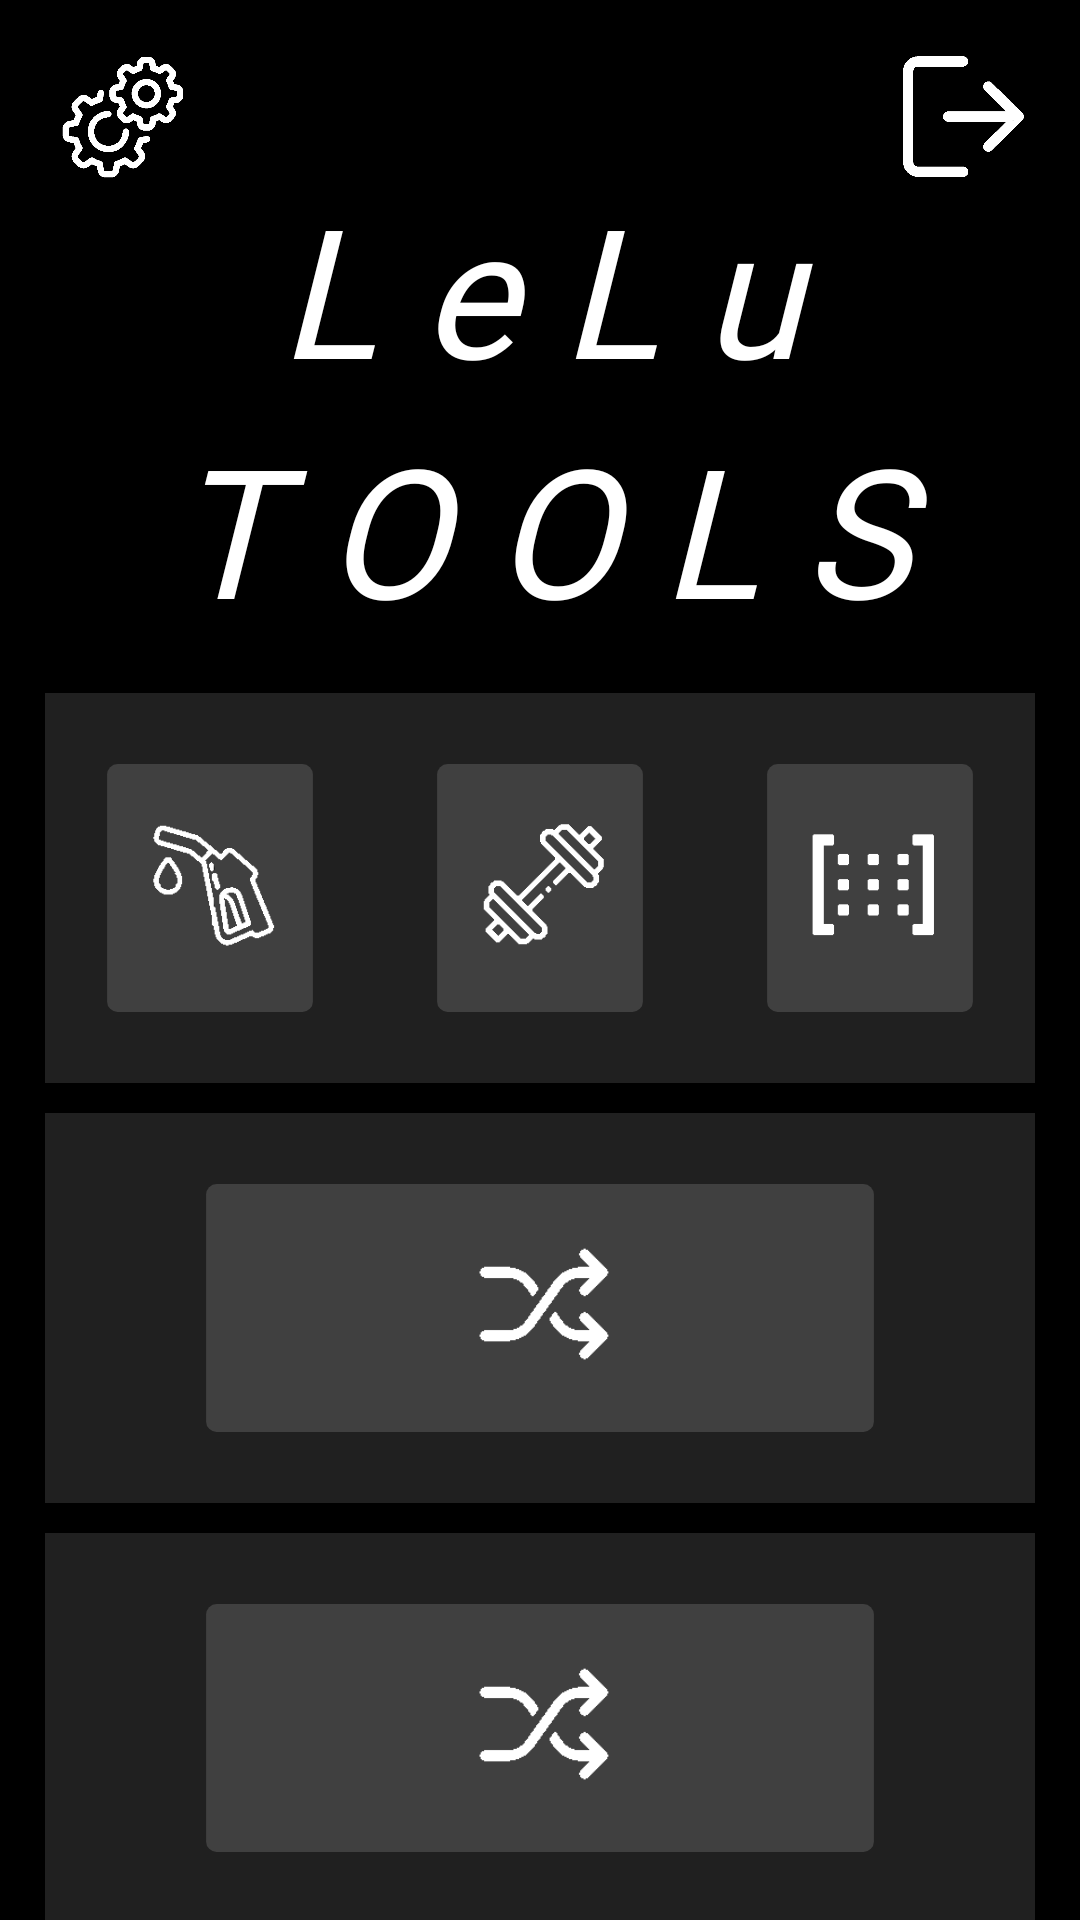

Locate icon controls on the screen. Image size 1080px×1920px, boxes as (x1, y1, x2, y2).
Settings: (62, 57, 183, 178)
